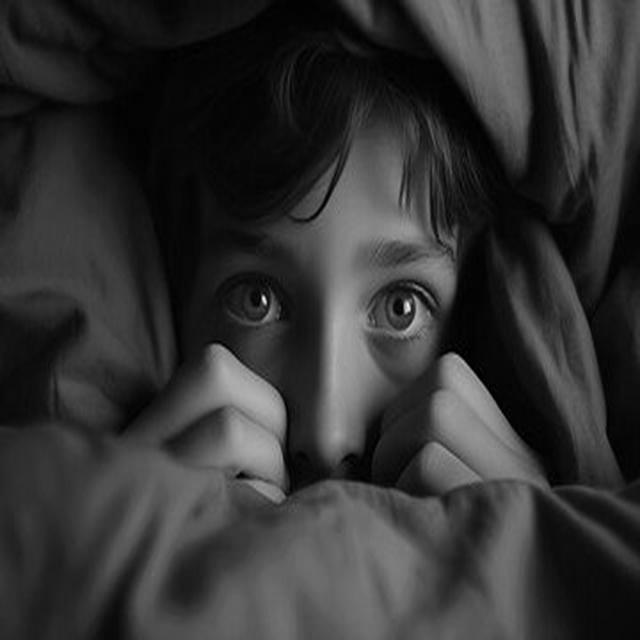Fear: (184, 94, 459, 622)
